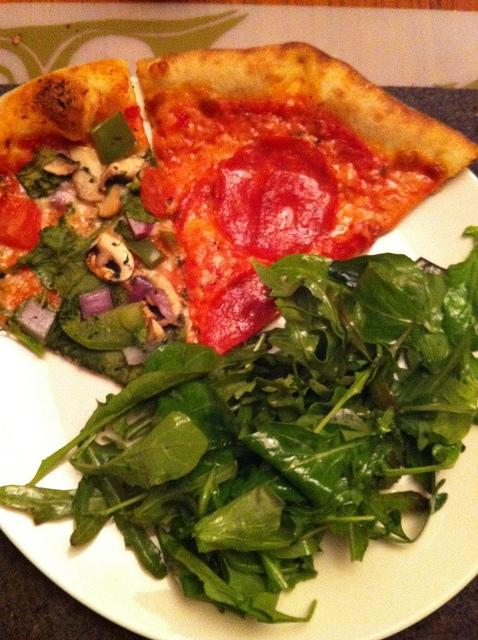mushroom: (122, 270, 182, 317), (84, 234, 134, 284), (68, 146, 106, 202), (60, 198, 102, 238), (146, 288, 186, 328), (100, 158, 145, 191), (93, 184, 122, 218), (43, 154, 81, 176)
onion: (16, 296, 58, 346), (148, 288, 183, 326), (78, 288, 114, 320), (128, 276, 153, 304), (126, 218, 154, 240), (122, 346, 142, 366), (48, 190, 74, 205)
